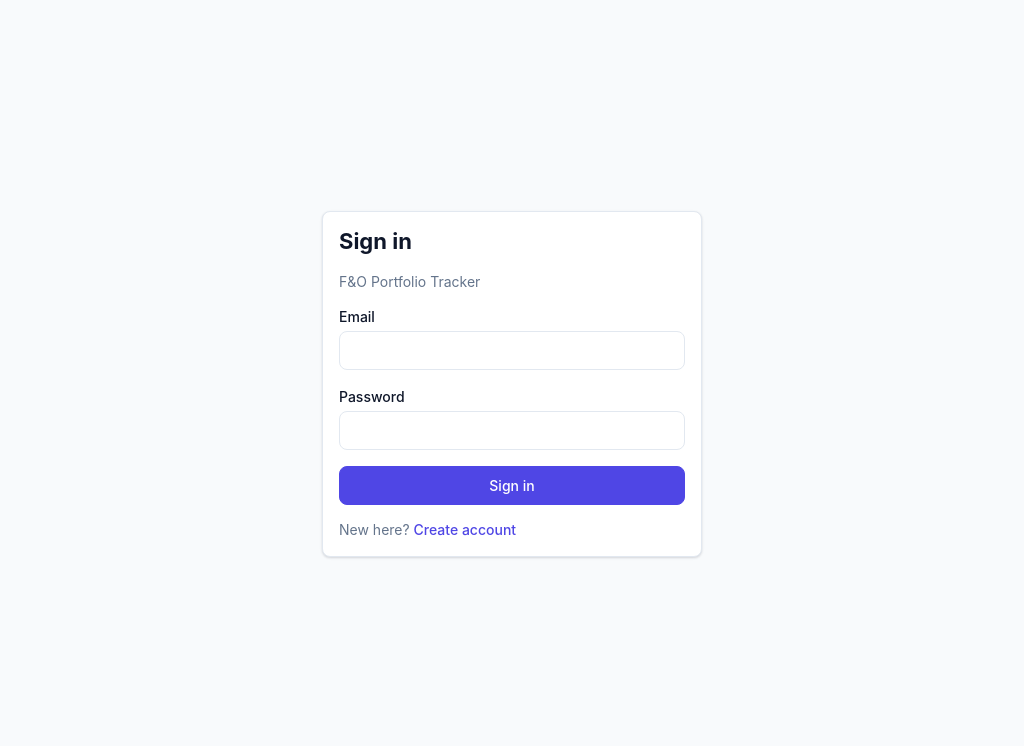
Test: App routing and login › toggles to create account and registers
The width and height of the screenshot is (1024, 746).
Click the button "Create account": (465, 530) top-left (414, 519), bottom-right (516, 540)
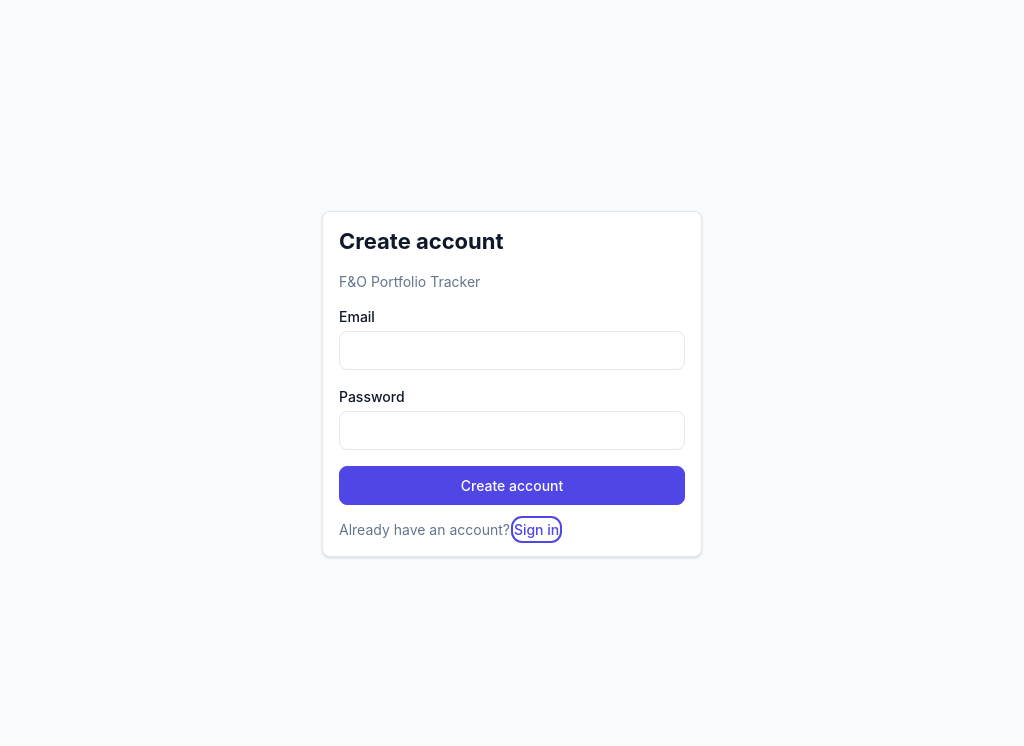
Now the heading "Create account" is shown, box top-left (339, 228), bottom-right (504, 254)
In the field labelled "Email": (512, 351) top-left (339, 331), bottom-right (685, 370), type "new@b.com"
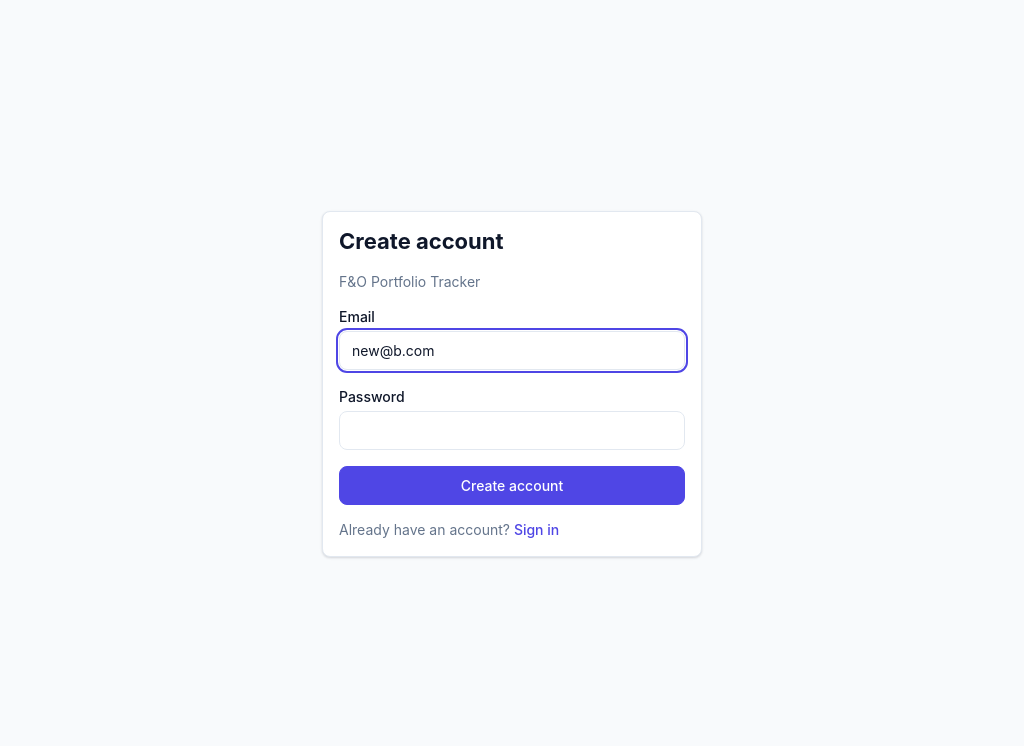
In the password field labelled "Password": (512, 431) top-left (339, 411), bottom-right (685, 450), type "password123"
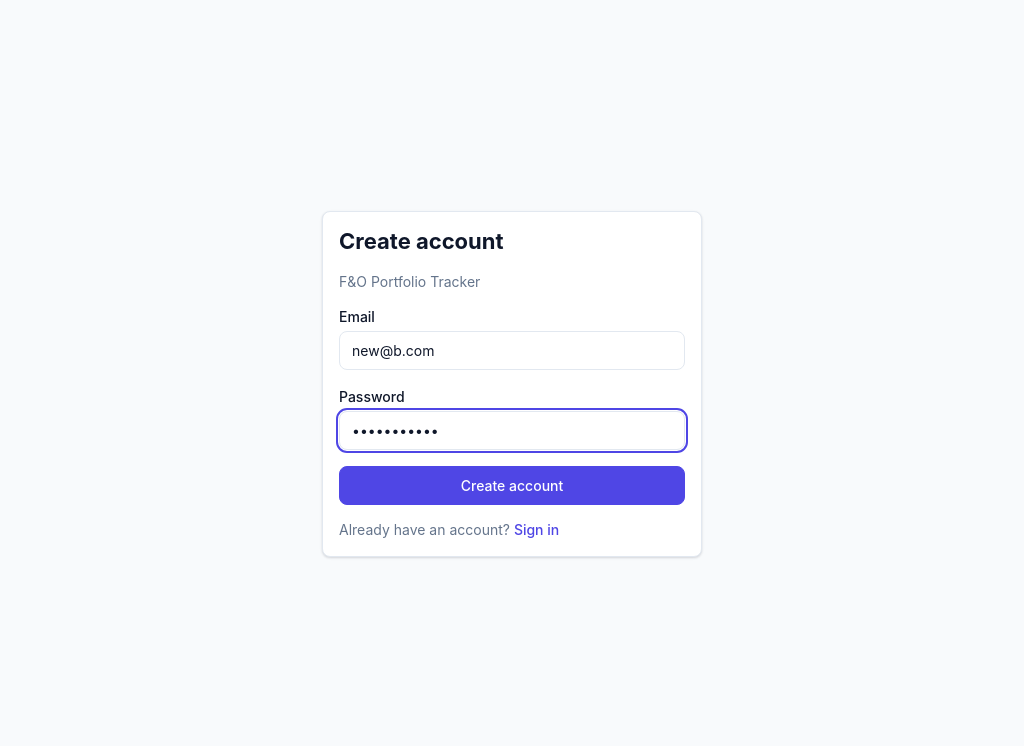
Click the button "Create account": (512, 486) top-left (339, 466), bottom-right (685, 505)
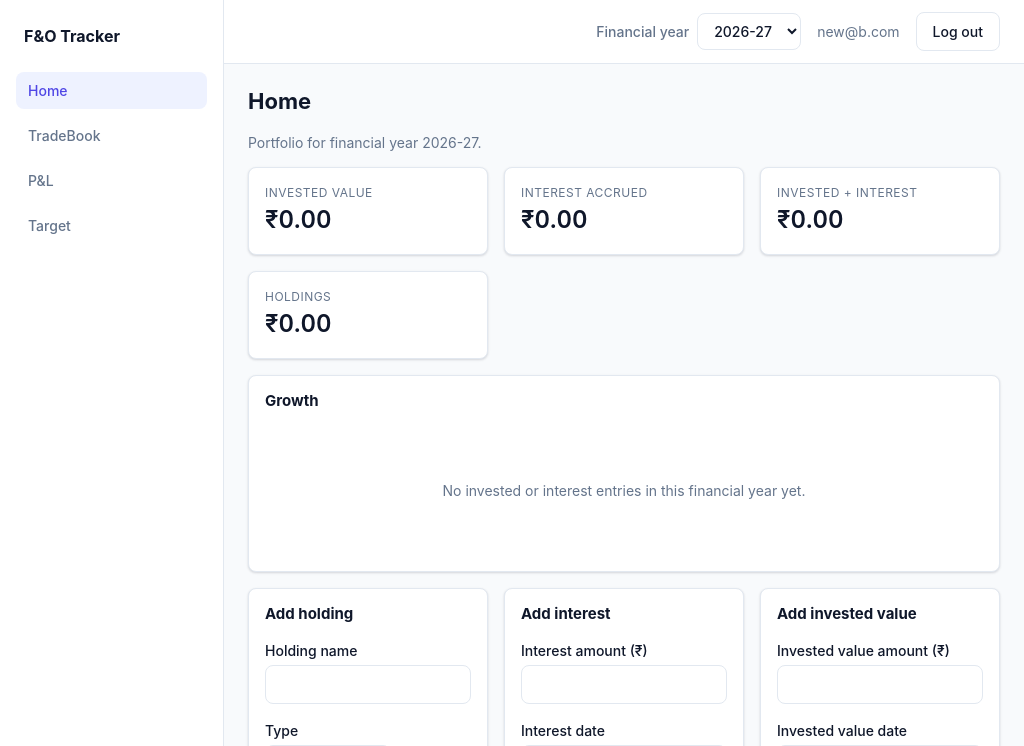
Now the heading "Home" is shown, box top-left (248, 88), bottom-right (311, 114)
